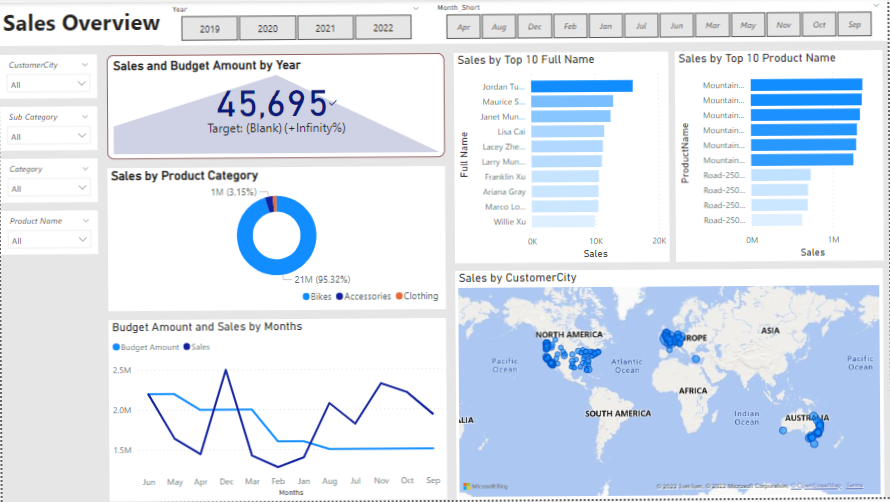

What the dashboard file says about the page in this screenshot:
{"tool":"powerbi","page":{"name":"Sales Overview","canvas":[1280,720],"ordinal":0},"visuals":[{"type":"textbox","box":[0,0,1280.2,61.9],"z":0},{"type":"slicer","fields":{"Values":["DIM_Customer.CustomerCity"]},"box":[0,75,140,62.5],"z":1000},{"type":"slicer","fields":{"Values":["DIM_Product.Sub Category"]},"box":[0,150,140,62.5],"z":2000},{"type":"slicer","fields":{"Values":["DIM_Product.Product Category"]},"box":[0,225,140,62.5],"z":3000},{"type":"slicer","fields":{"Values":["DIM_Product.ProductName"]},"box":[0,300,140,62.5],"z":4000},{"type":"slicer","fields":{"Values":["DIM_Calendar.Year"]},"box":[236.2,0,381.2,62.5],"z":5000},{"type":"slicer","fields":{"Values":["DIM_Calendar.Month_Short"]},"box":[617.5,0,662.5,62.5],"z":6000},{"type":"kpi","fields":{"Indicator":["Fact_Internet_Sales.Sales"],"Goal":["Fact_Budget.Budget Amount"],"TrendLine":["DIM_Calendar.Year"]},"box":[154.3,75.7,485.7,150],"z":7000},{"type":"donutChart","fields":{"Category":["DIM_Product.Product Category"],"Y":["Key Measures.Sales"]},"box":[154.3,238.6,485.7,205.7],"z":8000},{"type":"lineChart","fields":{"Y":["Key Measures.Budget Amount","Key Measures.Sales"],"Category":["DIM_Calendar.Month_Short"]},"box":[154.3,458.6,485.7,261.4],"z":9000},{"type":"barChart","title":"Sales by Top 10 Full Name","fields":{"Y":["Key Measures.Sales"],"Category":["DIM_Customer.Full Name"]},"box":[654.3,75.7,308.6,302.9],"z":10000},{"type":"barChart","title":"Sales by Top 10 Product Name","fields":{"Y":["Key Measures.Sales"],"Category":["DIM_Product.ProductName"]},"box":[971.4,75.7,298.6,302.9],"z":11000},{"type":"map","fields":{"Category":["DIM_Customer.CustomerCity"],"Size":["Key Measures.Sales"]},"box":[654.3,390,615.7,330],"z":12000}]}

Visuals, with their boxes in screenshot pixels (x1, y1, x2, y2), scaled from the page's 1280x720 canvas onto the 890x502 screenshot:
textbox: [0,0,889,43]
slicer - DIM_Customer.CustomerCity: [0,52,97,96]
slicer - DIM_Product.Sub Category: [0,105,97,148]
slicer - DIM_Product.Product Category: [0,157,97,200]
slicer - DIM_Product.ProductName: [0,209,97,253]
slicer - DIM_Calendar.Year: [164,0,429,44]
slicer - DIM_Calendar.Month_Short: [429,0,889,44]
kpi - Fact_Internet_Sales.Sales x Fact_Budget.Budget Amount: [107,53,445,157]
donutChart - DIM_Product.Product Category x Key Measures.Sales: [107,166,445,310]
lineChart - Key Measures.Budget Amount x Key Measures.Sales: [107,320,445,501]
"Sales by Top 10 Full Name" barChart: [455,53,670,264]
"Sales by Top 10 Product Name" barChart: [675,53,883,264]
map - DIM_Customer.CustomerCity x Key Measures.Sales: [455,272,883,501]
